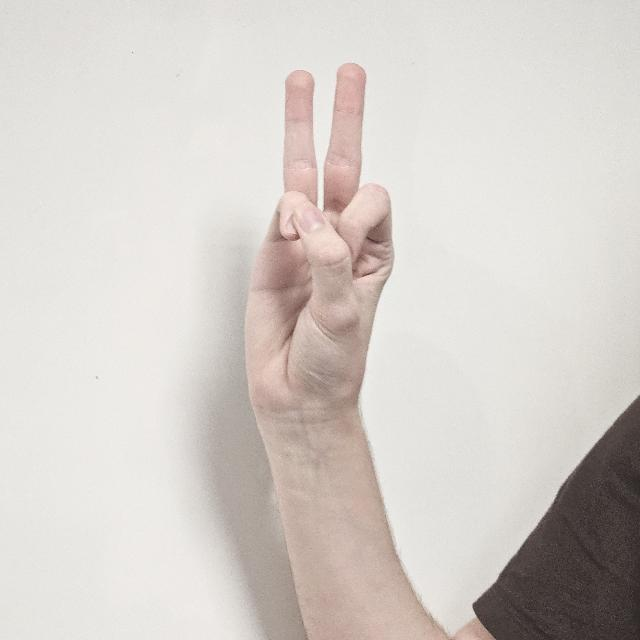R: (242, 61, 396, 457)
